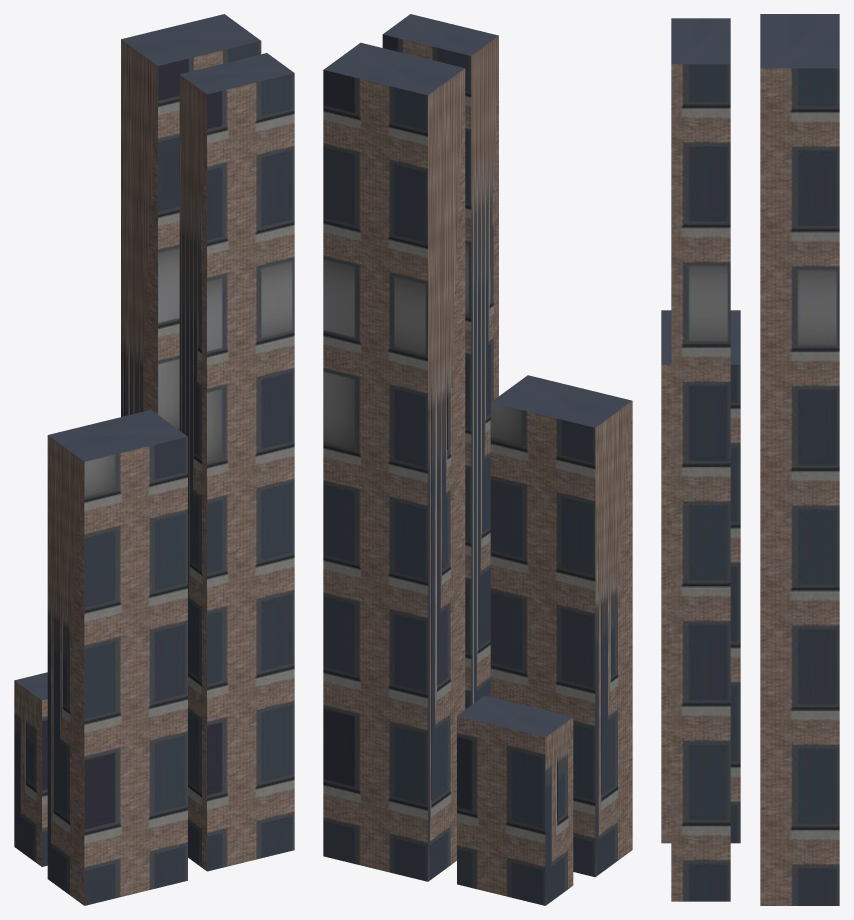
The model's file is block_24.obj.
The picture shows the model from 3 angles, left to right: view 1: azimuth 30°, elevation 25°; view 2: azimuth 150°, elevation 25°; view 3: azimuth 270°, elevation 25°; orthographic projection. The views are drawn at different scales.
Parts seen in each view (by area): view 1: b3, b1, b2, b0; view 2: b2, b1, b3, b0; view 3: b2, b3, b1.
Part boxes in pixels (bbox=[...]): b3: bbox=[179, 53, 294, 871]; b1: bbox=[47, 410, 187, 905]; b2: bbox=[121, 14, 261, 430]; b0: bbox=[14, 672, 47, 866]; b2: bbox=[323, 42, 465, 881]; b1: bbox=[490, 375, 632, 877]; b3: bbox=[382, 14, 498, 709]; b0: bbox=[457, 695, 573, 905]; b2: bbox=[760, 14, 839, 905]; b3: bbox=[671, 18, 730, 901]; b1: bbox=[661, 310, 740, 843].
Bounding box in the file's own units: 4.2 × 14 × 2.7.
